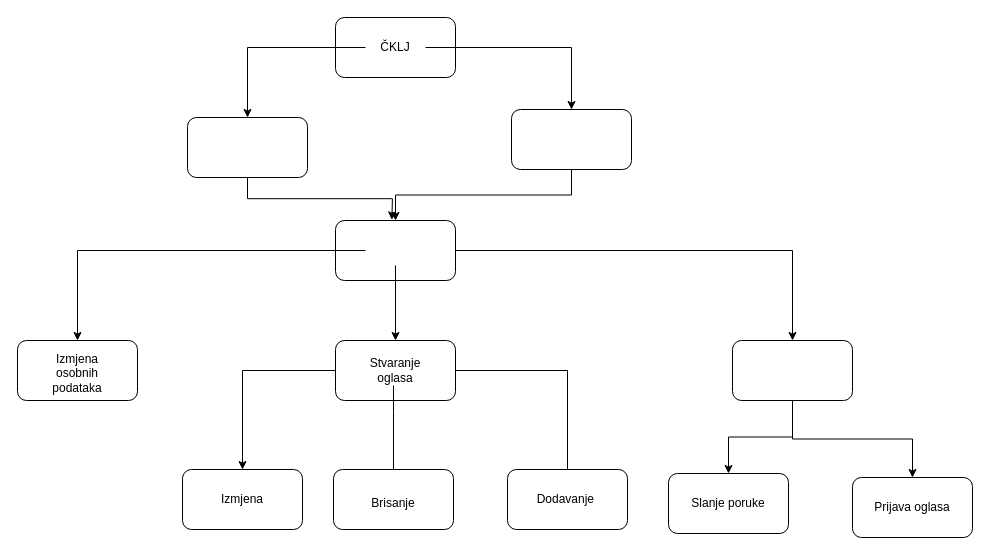
Image size: 990x555. Some labels were removed from this diagram. The centre of each missing label's shape, as x and y in pixels:
"Prijava" belongs at point 247,147.
"Reagiranje na tuđe oglase" belongs at point 792,370.
"Registracija" belongs at point 571,139.
"Ulazak" belongs at point 395,250.
